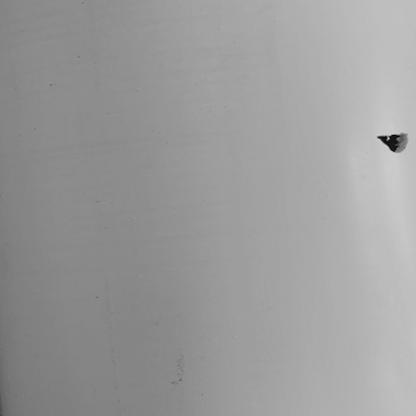kongdong: (372, 122, 415, 160)
